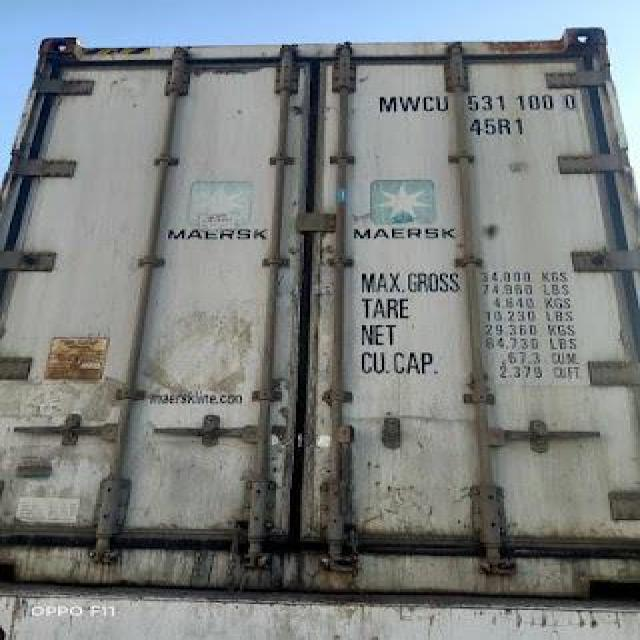ISO: (468, 115, 524, 138)
container_number: (358, 92, 570, 116)
